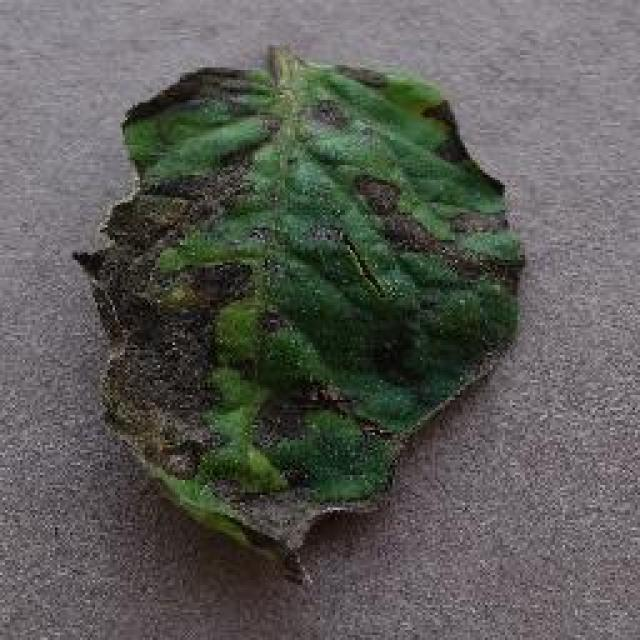Tomato___Early_blight: (70, 35, 529, 585)
